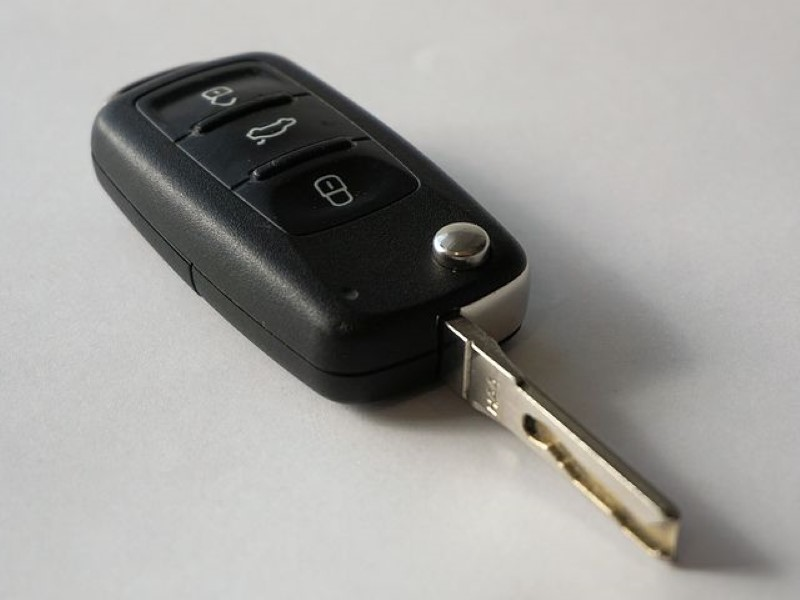carkey: (84, 46, 689, 566)
